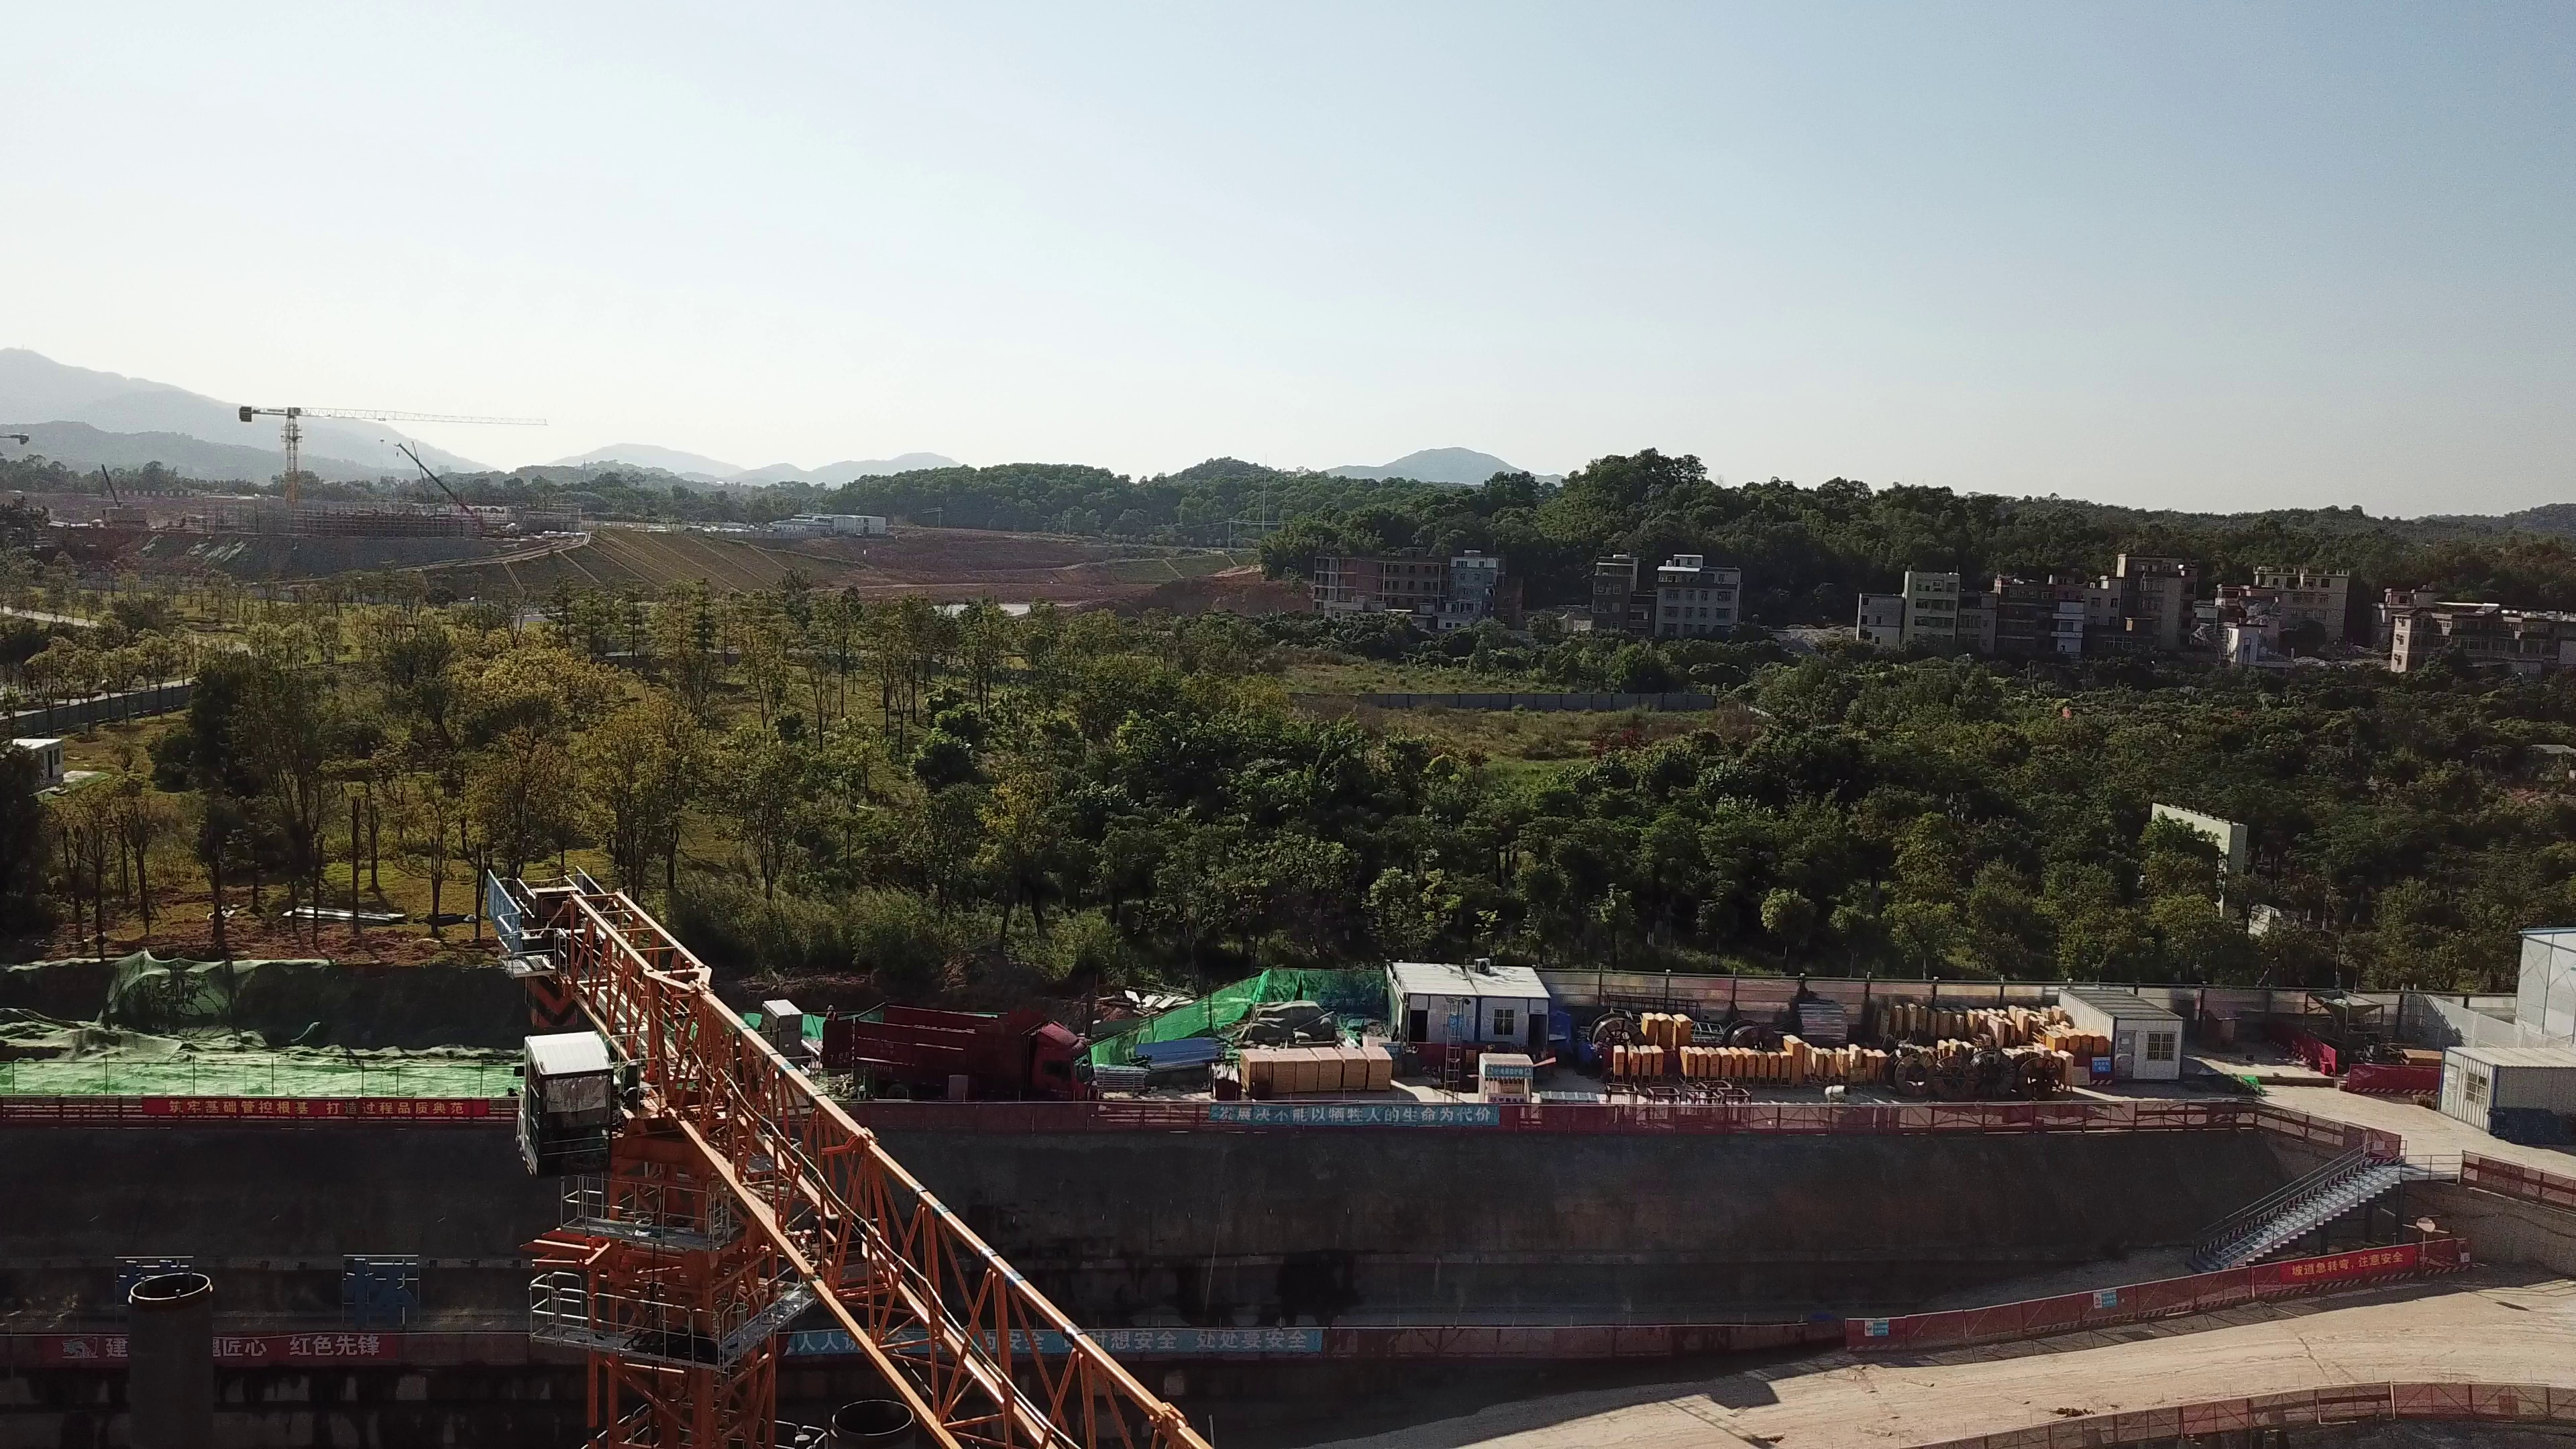fence: (1589, 963, 2338, 1033), (1595, 1085, 2235, 1154), (1366, 1324, 2229, 1373)
helmet: (826, 1004, 836, 1010)
person: (824, 1003, 839, 1019)
scaffold: (1097, 1065, 1161, 1093), (1201, 1063, 1238, 1102)
slogan: (802, 1332, 1329, 1364), (138, 1092, 496, 1128), (42, 1330, 401, 1364), (1209, 1094, 1496, 1132)
wood: (1243, 1042, 1394, 1094)
